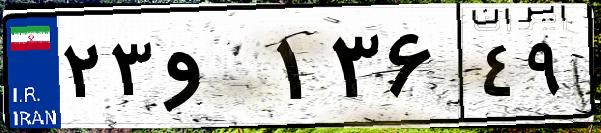1: (270, 28, 330, 110)
2: (57, 26, 110, 100)
3: (330, 28, 385, 110), (110, 28, 158, 98)
4: (475, 38, 525, 113)
6: (385, 28, 445, 110)
9: (525, 38, 570, 115)
و: (158, 20, 270, 120)
